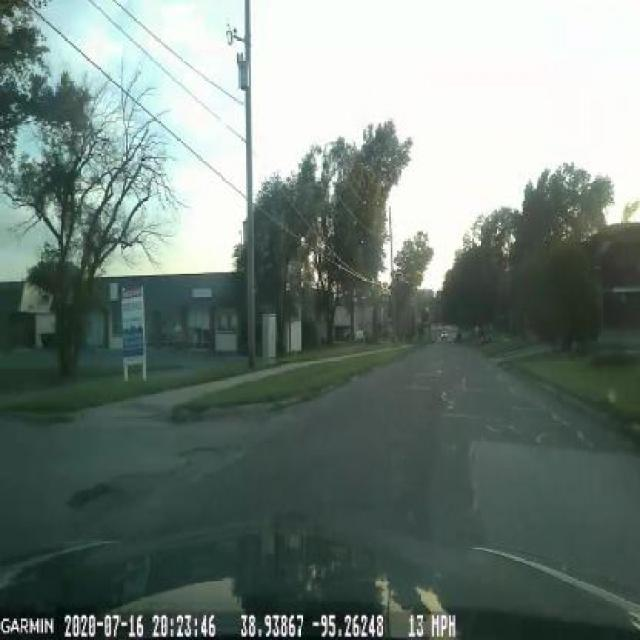Pothole: (63, 472, 129, 526)
